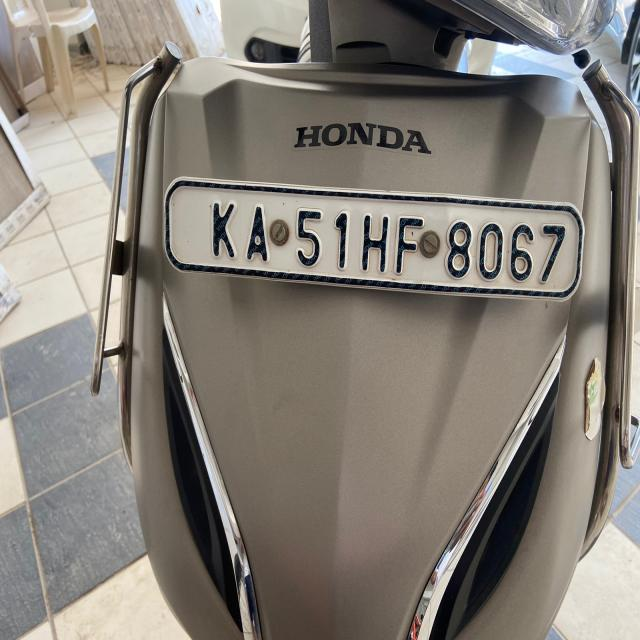0: (478, 218, 505, 288)
1: (329, 206, 353, 271)
5: (294, 197, 325, 276)
6: (506, 208, 535, 287)
7: (537, 215, 573, 290)
8: (442, 210, 474, 278)
A: (246, 193, 277, 264)
F: (395, 215, 430, 281)
H: (359, 210, 392, 285)
K: (202, 196, 240, 264)
